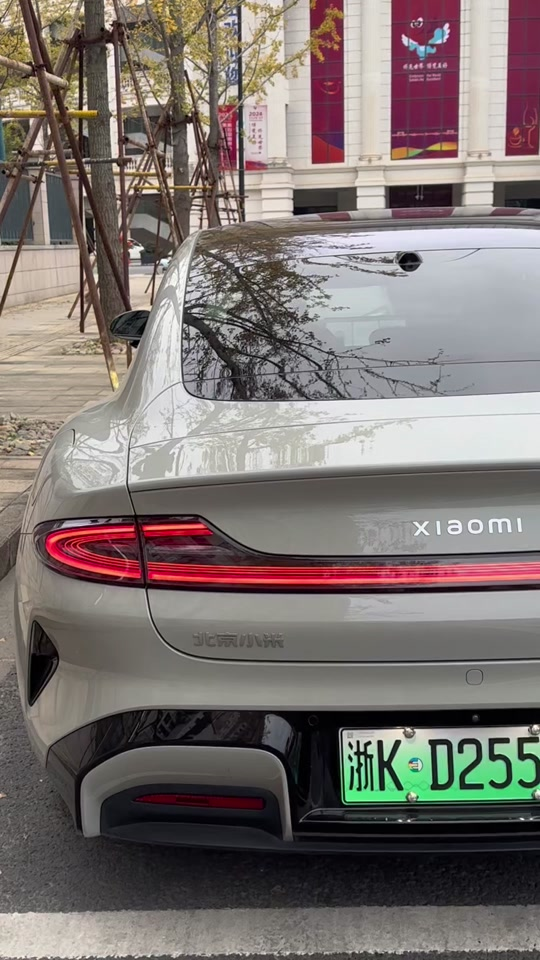su7: (18, 201, 540, 870)
